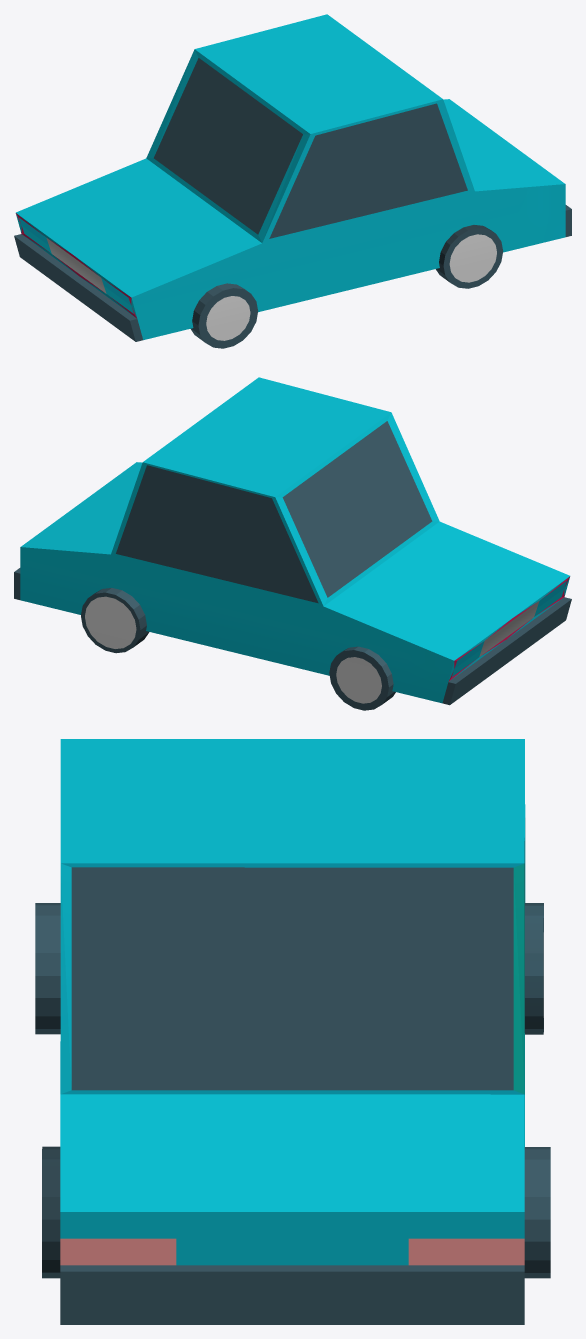
File: car_04_1_world_ap_0_lev1.glb
The picture shows the model from 3 angles, top to bottom: view 1: azimuth 30°, elevation 25°; view 2: azimuth 150°, elevation 25°; view 3: azimuth 270°, elevation 25°; orthographic projection. The views are drawn at different scales.
Visible parts, largest first — view 1: car_04_1_world_ap_0_lev1; view 2: car_04_1_world_ap_0_lev1; view 3: car_04_1_world_ap_0_lev1.
Part boxes in pixels (x1,y1,x2,y2): car_04_1_world_ap_0_lev1: [14, 14, 571, 348]; car_04_1_world_ap_0_lev1: [14, 377, 571, 710]; car_04_1_world_ap_0_lev1: [35, 739, 550, 1324].
Size of the model in its own units: 1.47 by 0.6093 by 0.7441.
1 material, 1 textured.
